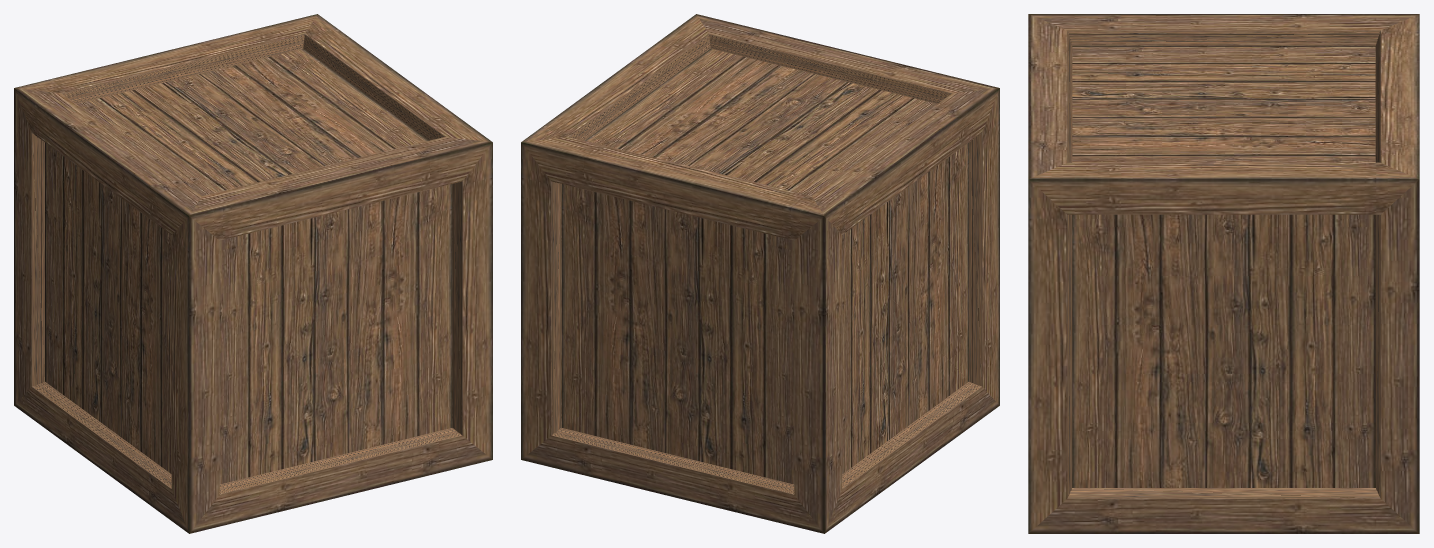
Rendered from woodenCrate.dae.
The picture shows the model from 3 angles, left to right: view 1: azimuth 30°, elevation 25°; view 2: azimuth 150°, elevation 25°; view 3: azimuth 270°, elevation 25°; orthographic projection. The views are drawn at different scales.
Parts seen in each view (by area): view 1: WoodenCrate; view 2: WoodenCrate; view 3: WoodenCrate.
Boxes of the visible parts, x1,y1,x2,y2 form: WoodenCrate: (14, 14, 492, 533); WoodenCrate: (521, 14, 999, 533); WoodenCrate: (1028, 14, 1419, 533).
Bounding box in the file's own units: 2 × 2 × 2.
Materials: 2 (2 with a texture image).
